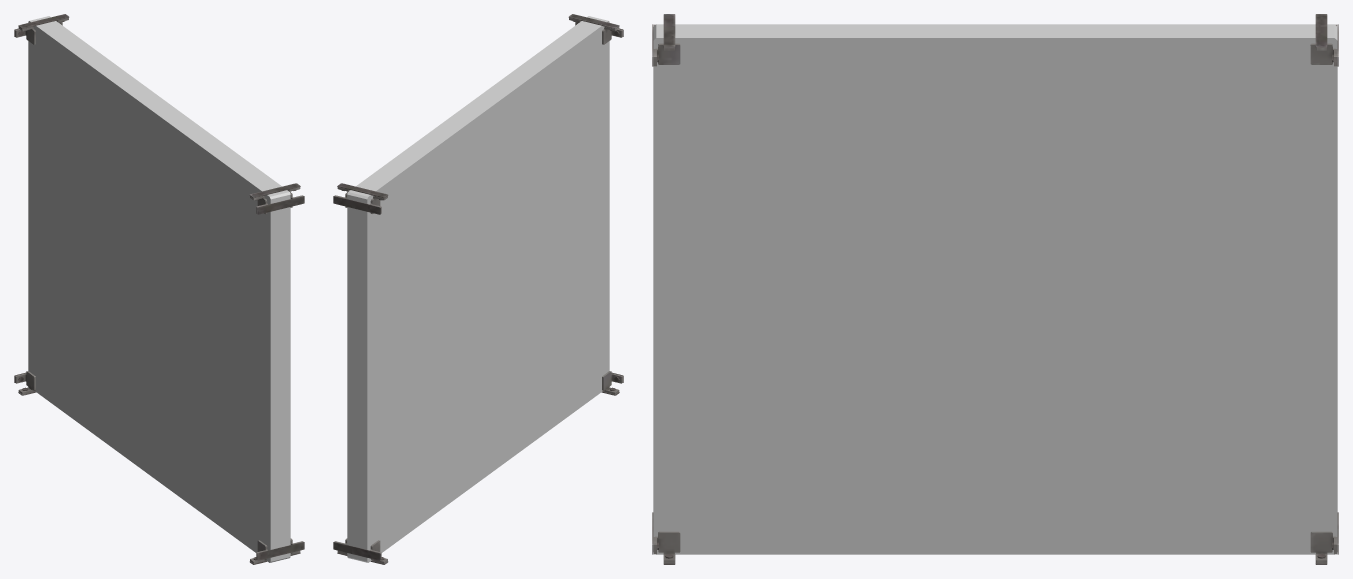
File: SM_Wall_Glass_b3e9cd.glb
3 views of the same model, side by side, from view 1: azimuth 30°, elevation 25°; view 2: azimuth 150°, elevation 25°; view 3: azimuth 270°, elevation 25° (orthographic). The views are drawn at different scales.
Size of the model in its own units: 0.4499 by 3.34 by 4.01.
2 materials, 1 textured.
